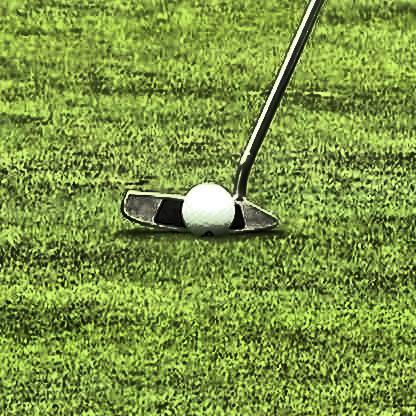golfball: (180, 177, 234, 233)
